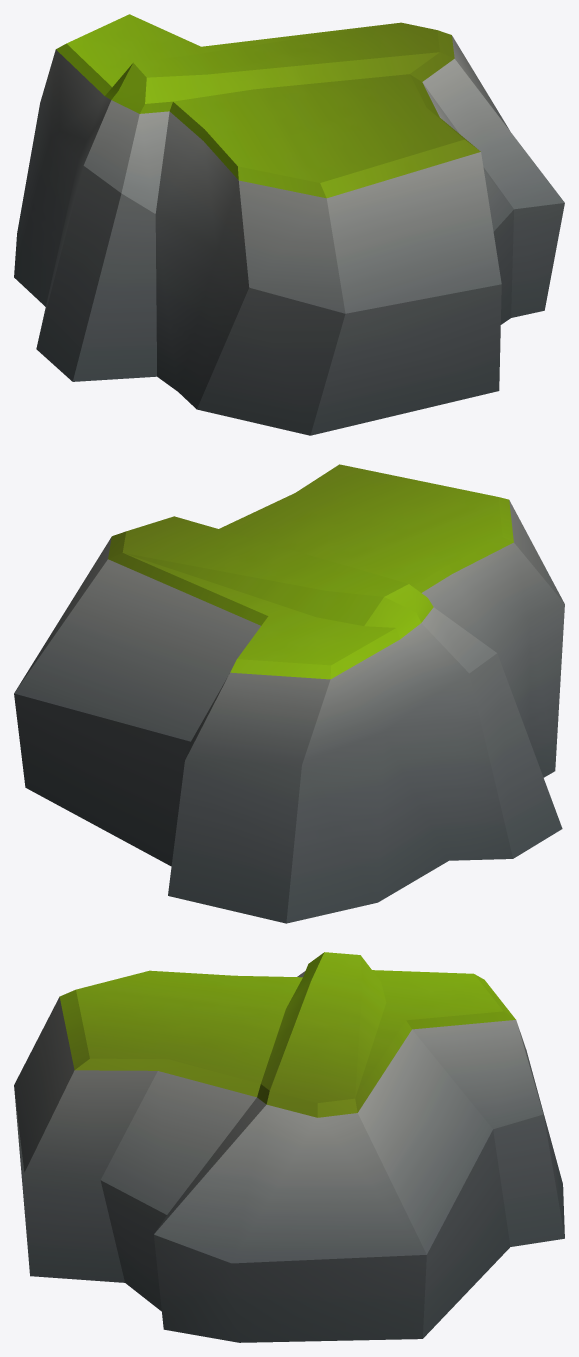
Rendered from Rock_Platform_Small_GrassVariant.fbx.
3 renders of one model, top to bottom at view 1: azimuth 30°, elevation 25°; view 2: azimuth 150°, elevation 25°; view 3: azimuth 270°, elevation 25°, orthographic. The views are drawn at different scales.
Parts seen in each view (by area): view 1: Rock_Platform_Small_GrassVariant; view 2: Rock_Platform_Small_GrassVariant; view 3: Rock_Platform_Small_GrassVariant.
Part boxes in pixels (x1=…): Rock_Platform_Small_GrassVariant: x1=14, y1=14, x2=564, y2=435; Rock_Platform_Small_GrassVariant: x1=14, y1=464, x2=564, y2=923; Rock_Platform_Small_GrassVariant: x1=14, y1=952, x2=564, y2=1342.
Bounding box in the file's own units: 633 × 690 × 324.
1 material, 1 textured.
